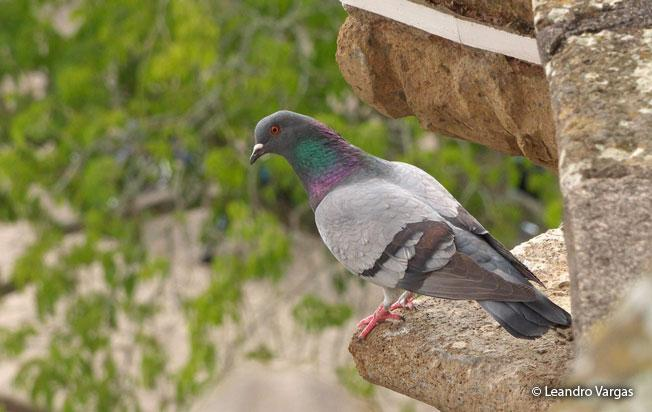Flying Rat: (244, 103, 556, 356)
